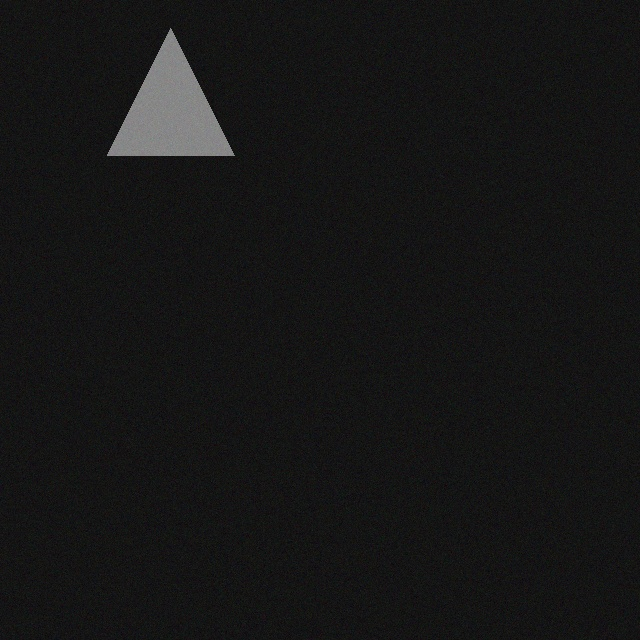triangle: (99, 37, 226, 164)
